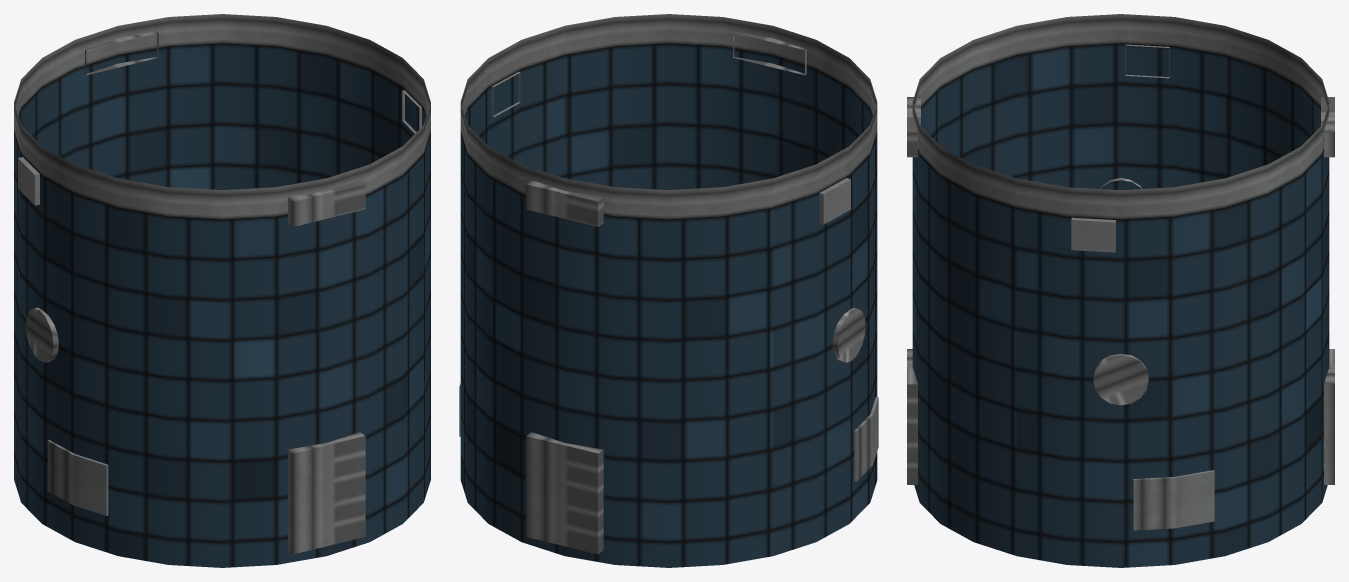
File: basic 1p5 crew_naked.obj
3 views of the same model, side by side, from view 1: azimuth 30°, elevation 25°; view 2: azimuth 150°, elevation 25°; view 3: azimuth 270°, elevation 25° (orthographic).
Visible parts, largest first — view 1: 1; view 2: 1; view 3: 1.
Part boxes in pixels (left/top/right/bottom): 1: left=14, top=14, right=430, bottom=567; 1: left=459, top=14, right=878, bottom=567; 1: left=907, top=14, right=1334, bottom=567.
Bounding box in the file's own units: 1.92 × 1.88 × 1.92.
